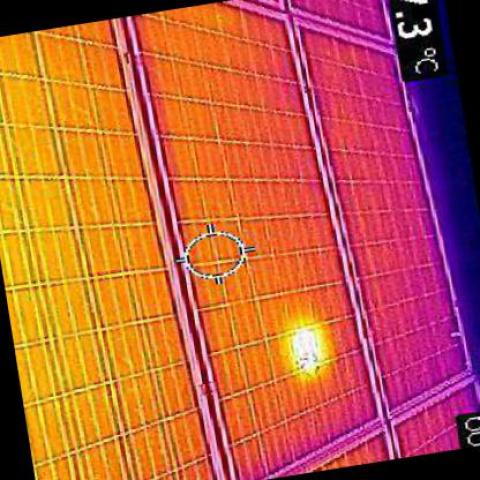fault: (296, 324, 325, 368)
